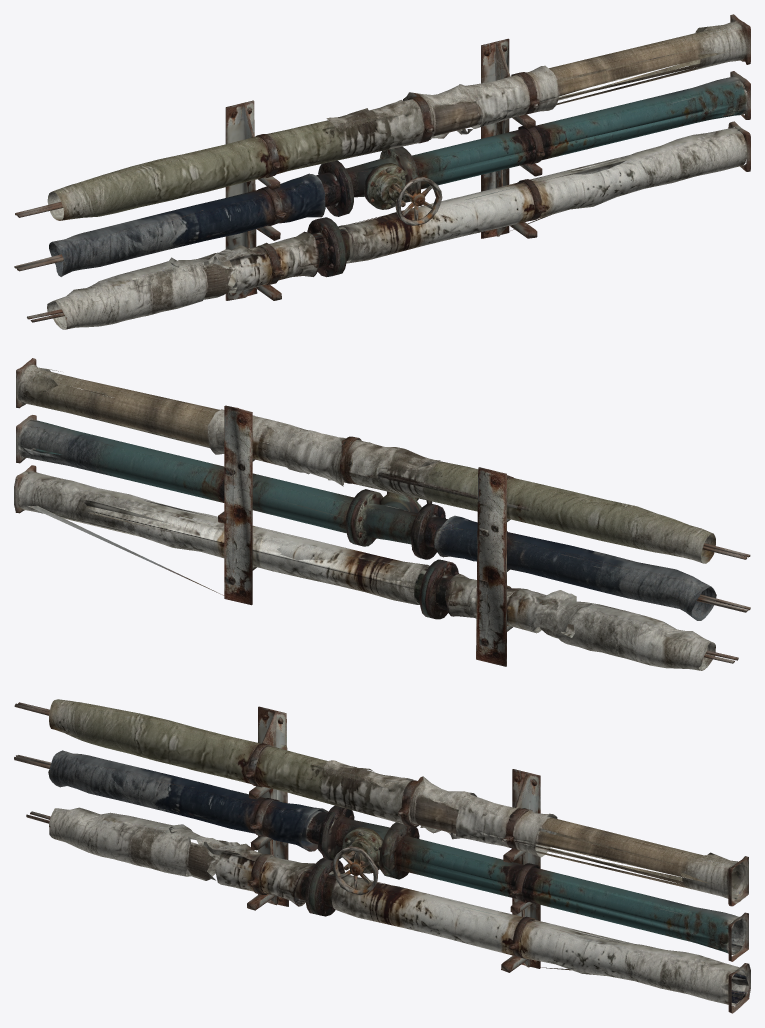
Rendered from silo81_pipe_run.glb.
3 renders of one model, top to bottom at view 1: azimuth 30°, elevation 25°; view 2: azimuth 150°, elevation 25°; view 3: azimuth 330°, elevation 25°, orthographic.
Bounding box in the file's own units: 0.9531 × 0.2437 × 0.1138.
1 material, 1 textured.
